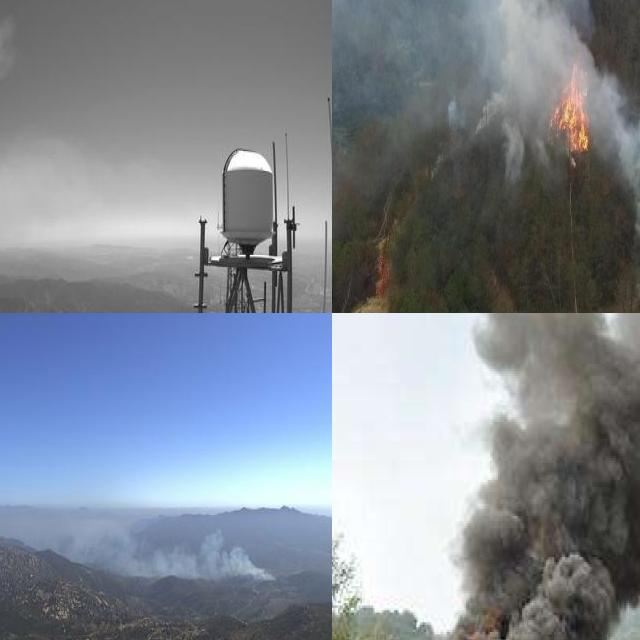fire: (496, 0, 625, 183), (445, 620, 486, 640)
smoke: (332, 0, 640, 256), (459, 313, 640, 640), (44, 488, 274, 586)
